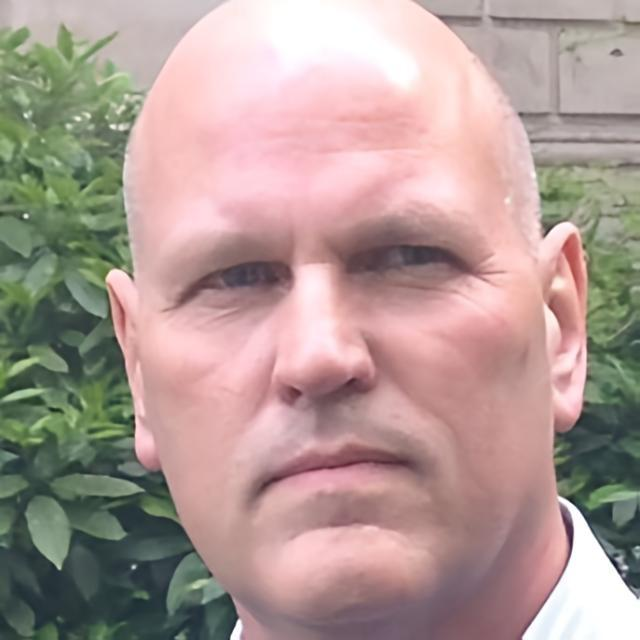anger: (134, 101, 538, 626)
